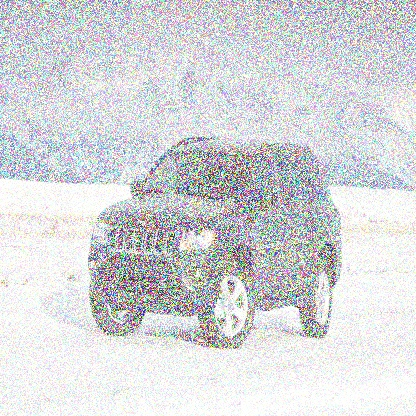Vehicle: (88, 136, 342, 350)
